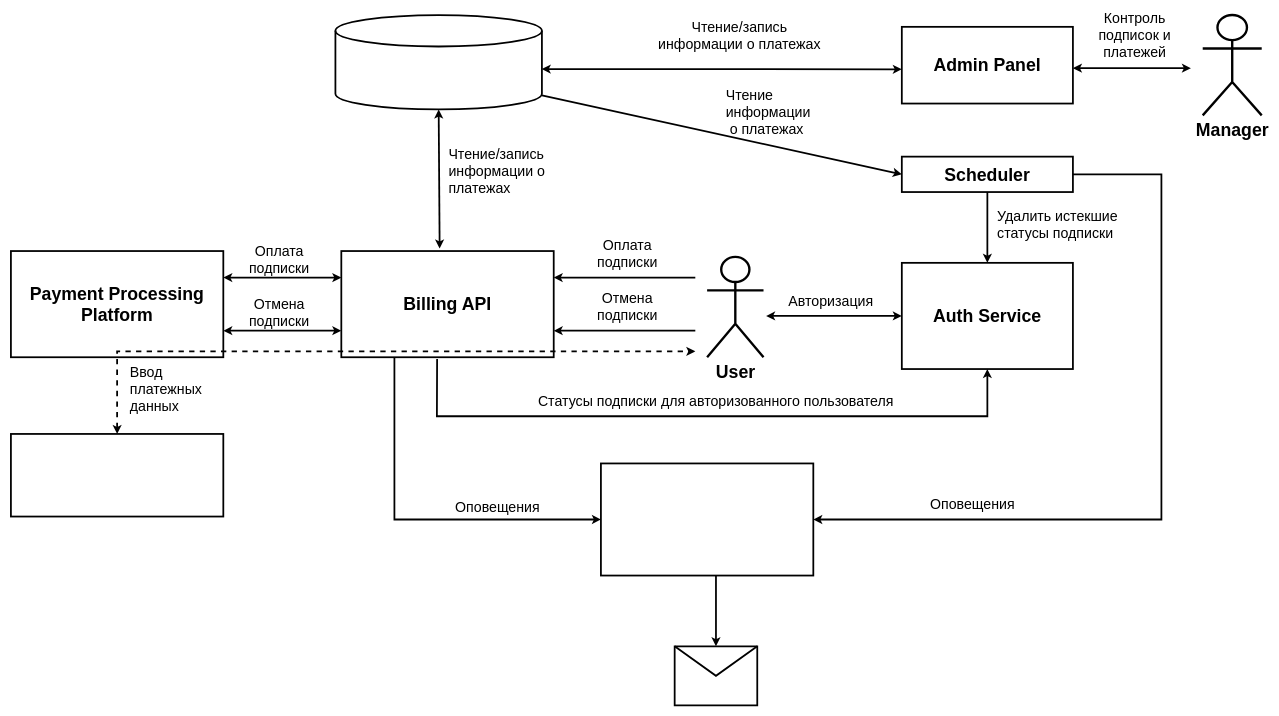
This 1279x716 diagram has some shape labels left out. Here are the shapes that lost their labels. From the top down, the centre of each, then its label:
At (438,62): "Payments DB".
At (117,475): "Payment Page".
At (707,519): "Notification Service".
